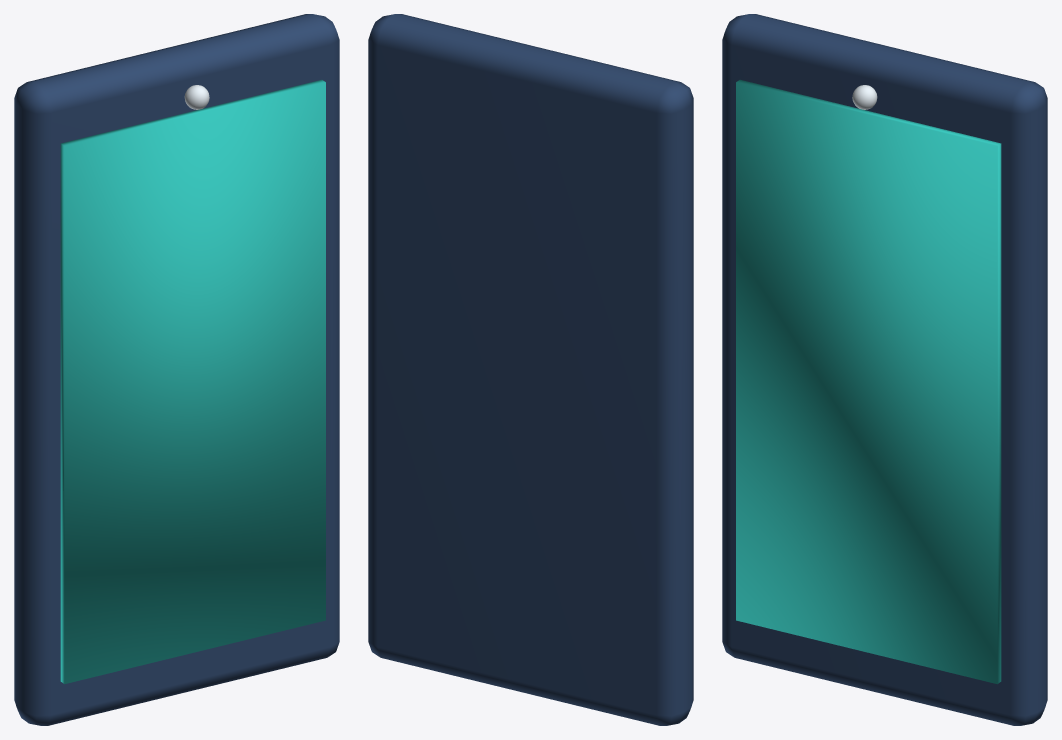
The model's file is smartphone-lite.glb.
3 renders of one model, left to right at view 1: azimuth 30°, elevation 25°; view 2: azimuth 150°, elevation 25°; view 3: azimuth 330°, elevation 25°, orthographic.
Visible parts, largest first — view 1: Phone body; view 2: Phone body; view 3: Phone body.
Boxes of the visible parts, box(x1,y1,x2,y2) form: Phone body: box(14, 14, 339, 725); Phone body: box(368, 14, 693, 725); Phone body: box(722, 14, 1047, 725).
Size of the model in its own units: 0.72 by 1.4 by 0.16.
